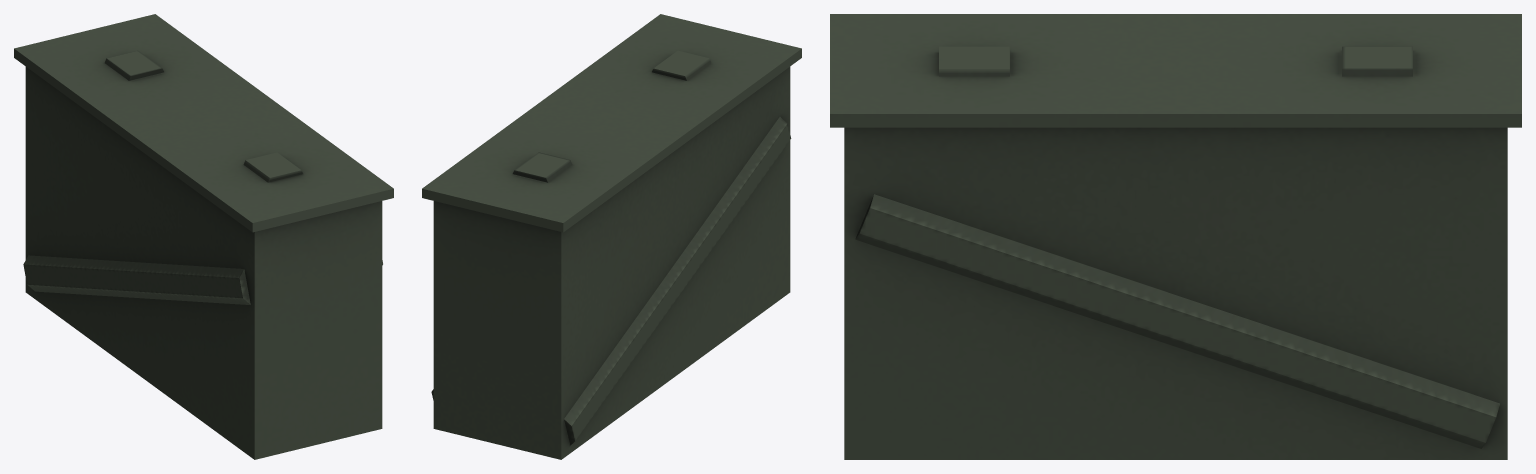
Rendered from Ammo_Box.fbx.
The picture shows the model from 3 angles, left to right: view 1: azimuth 30°, elevation 25°; view 2: azimuth 150°, elevation 25°; view 3: azimuth 270°, elevation 25°; orthographic projection. The views are drawn at different scales.
Parts seen in each view (by area): view 1: Ammobox; view 2: Ammobox; view 3: Ammobox.
Boxes of the visible parts, x1,y1,x2,y2 form: Ammobox: [14, 14, 393, 459]; Ammobox: [422, 14, 801, 459]; Ammobox: [830, 14, 1521, 459].
Size of the model in its own units: 3.44 by 5.72 by 10.05.
